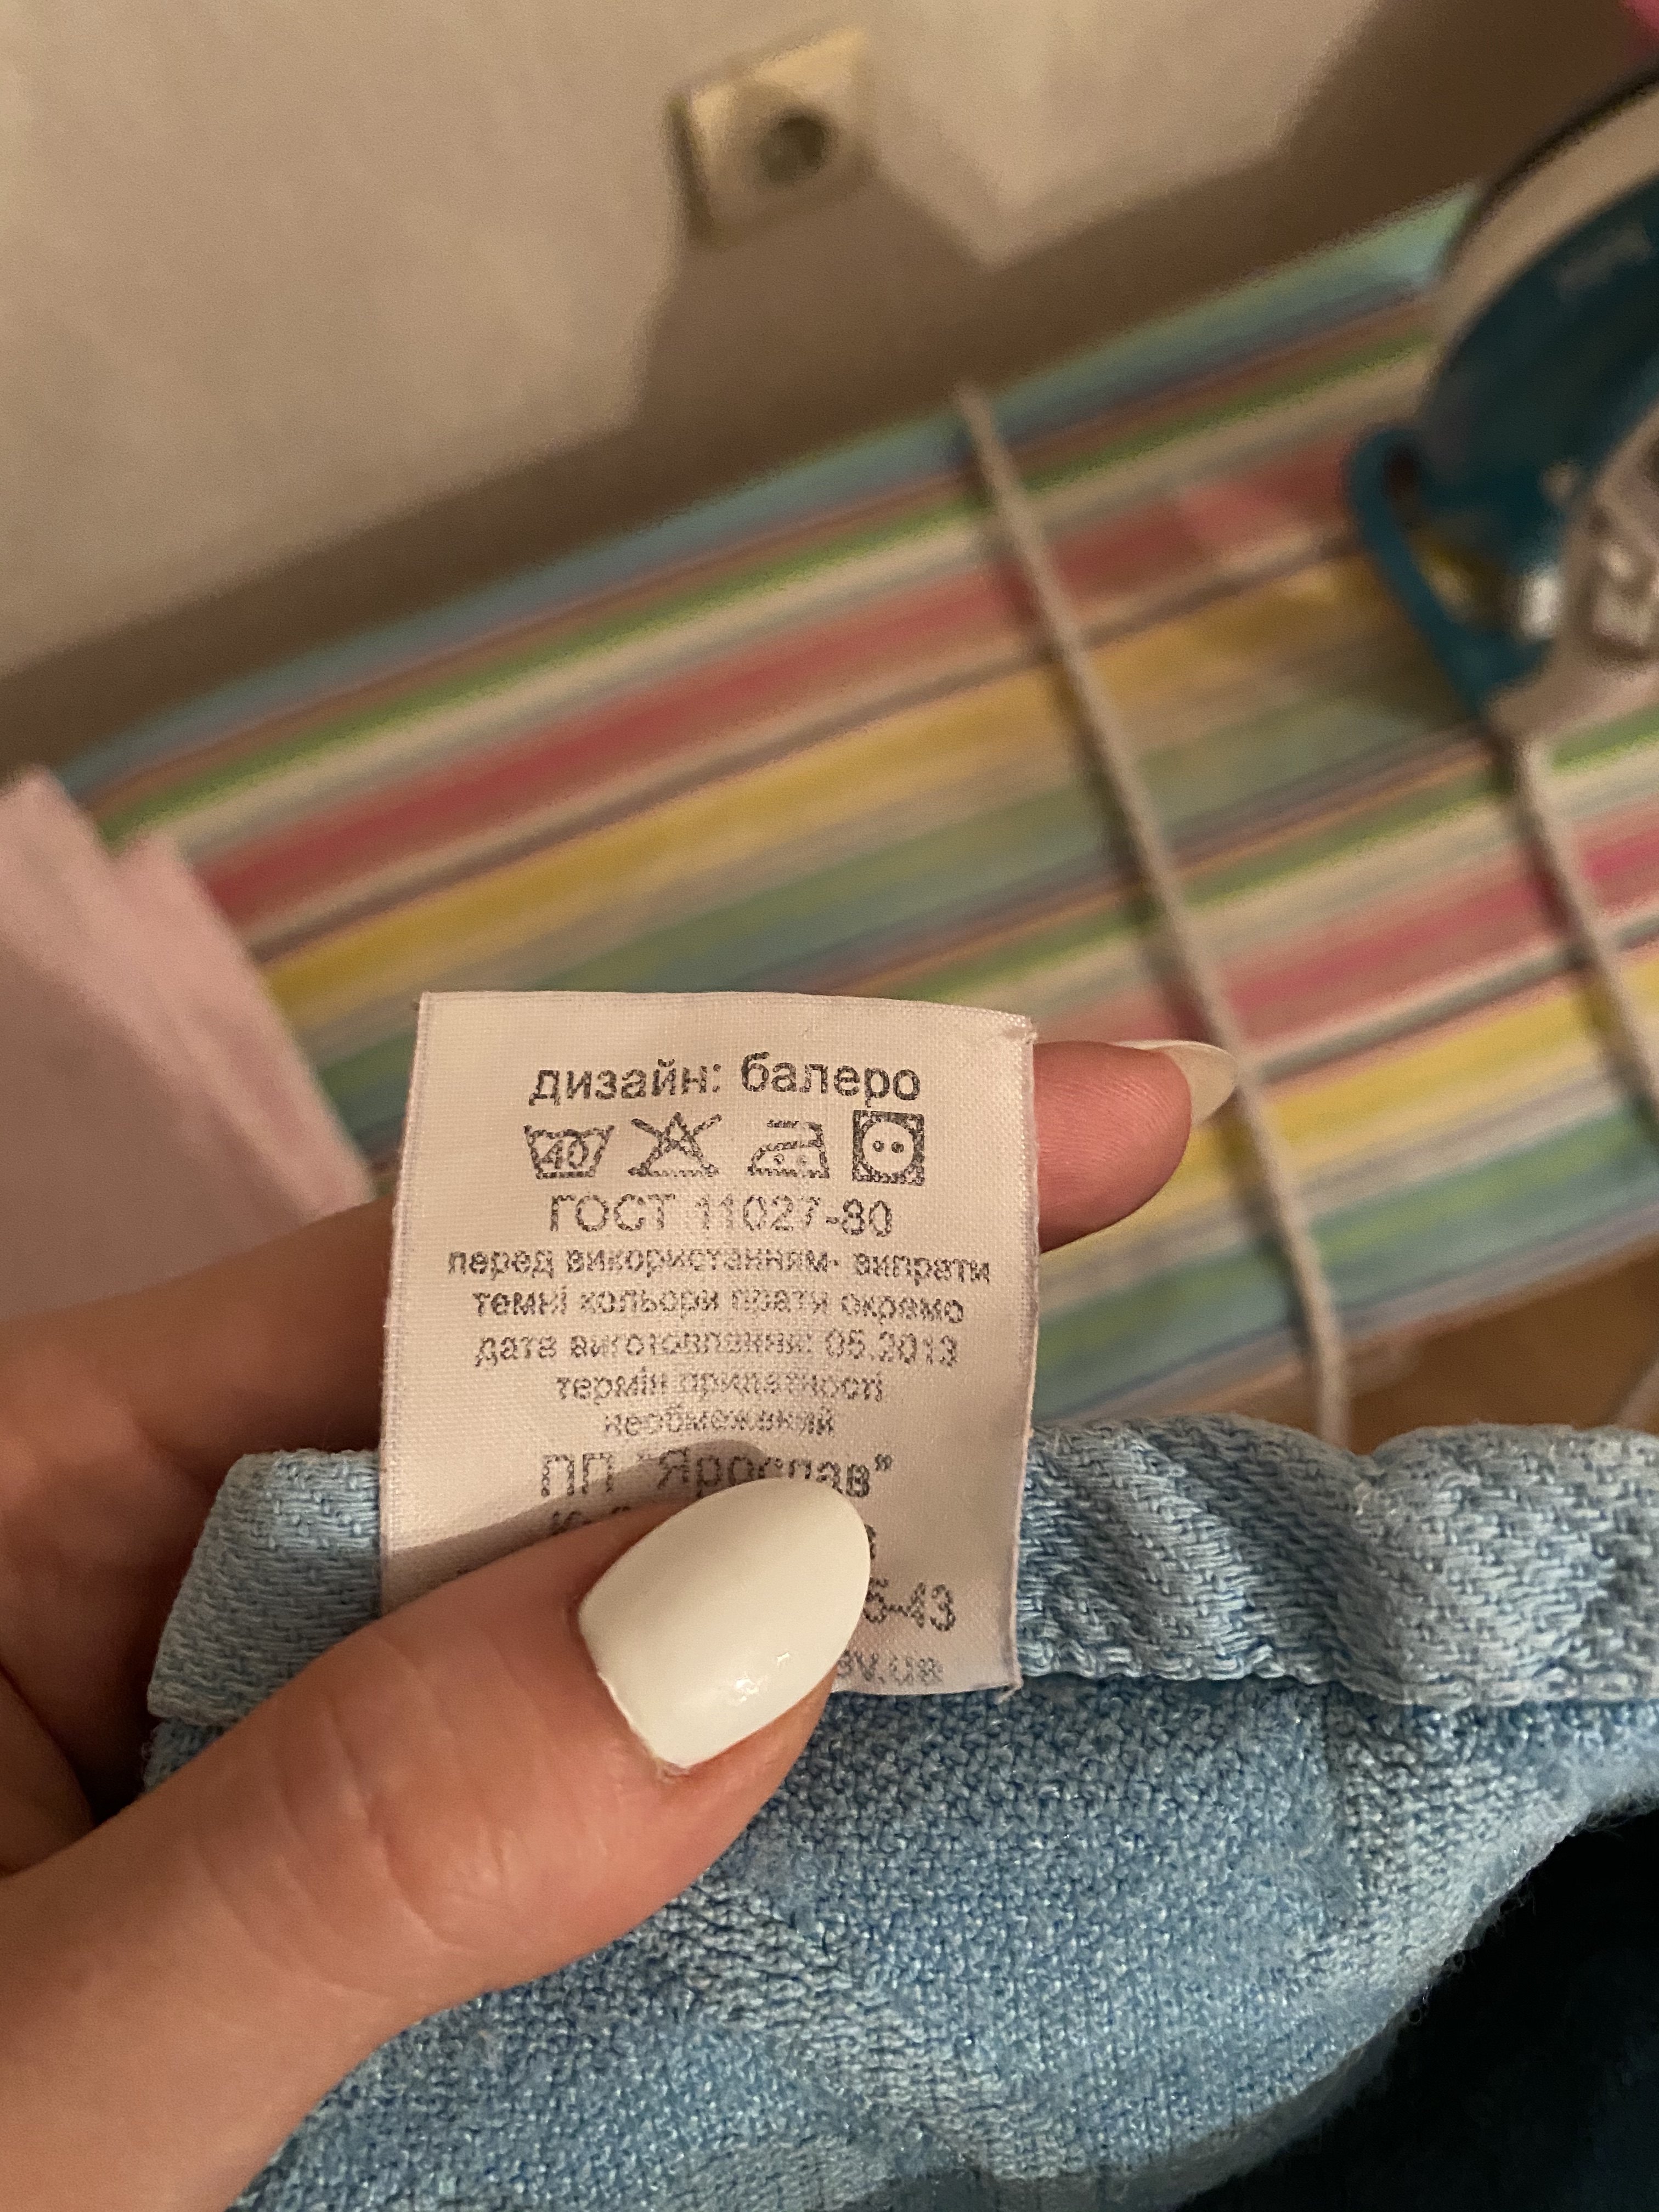do_not_bleach: (624, 1104, 727, 1186)
ironing_at_med_temp: (744, 1108, 836, 1179)
tumble_drying_normal: (850, 1101, 932, 1190)
wash_at_or_below_40: (516, 1116, 617, 1190)
